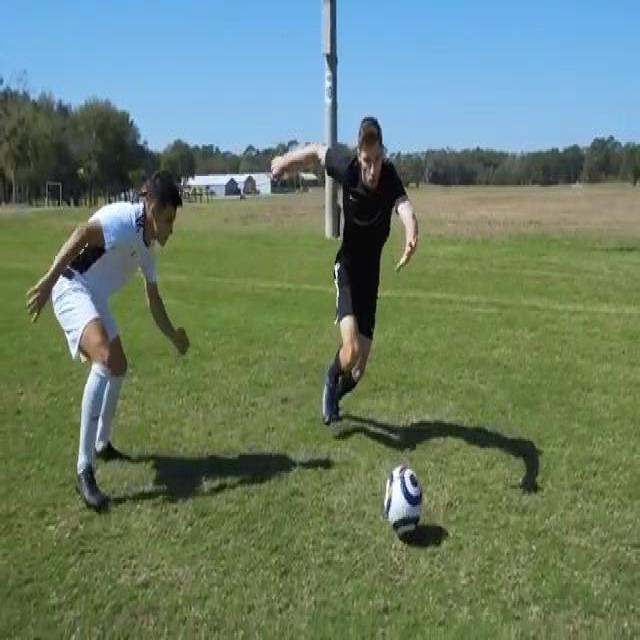Soccer Ball: (383, 466, 423, 538)
